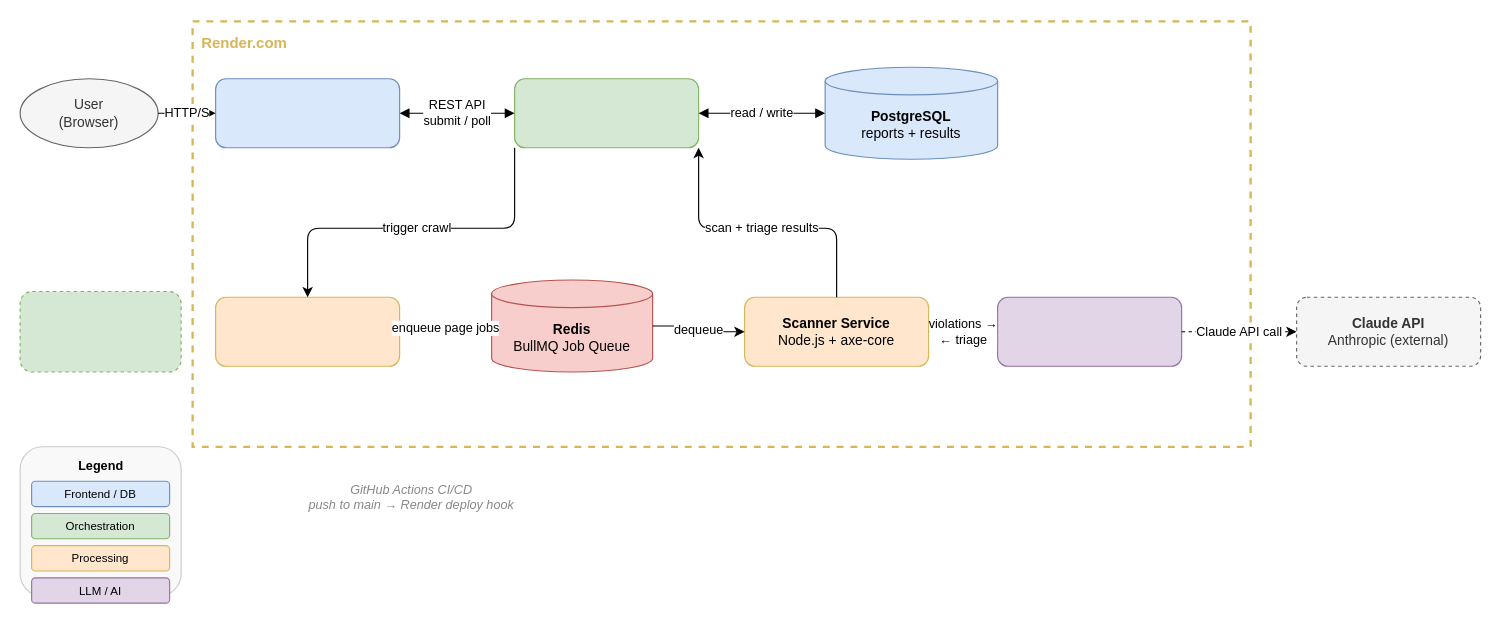
This 1501x623 diagram has some shape labels left out. The centre of each missing label's shape, as x and y in pixels:
@a11y/shared-types (npm workspace) CrawlJob · ScanResult TriageResult: [100,331]
Crawler Service Node.js + Playwright: [307,331]
Frontend React SPA: [307,113]
LLM Service Node.js / Express: [1089,331]
Report Service Node.js / Express: [606,113]
